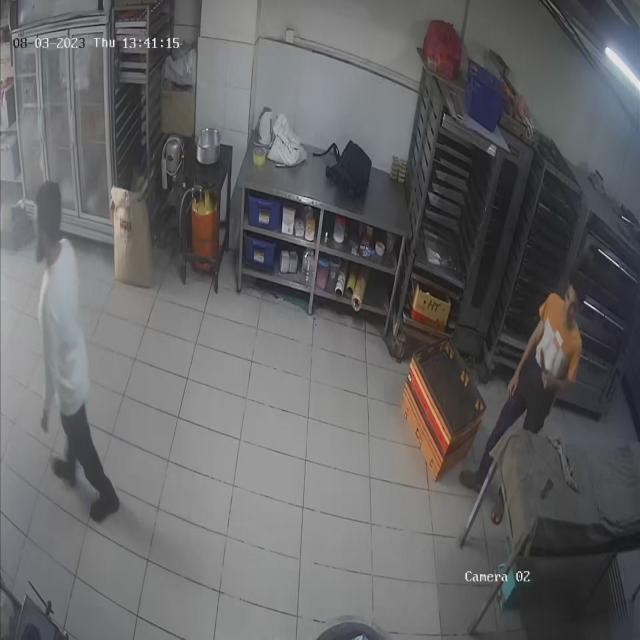Knife: (538, 346, 562, 388)
